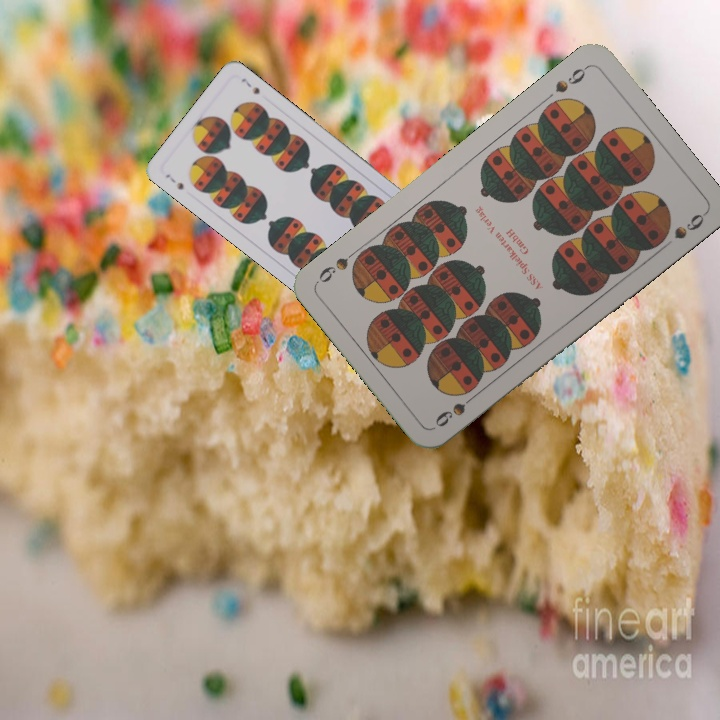S7: (161, 170, 186, 192)
S9: (430, 388, 481, 430), (551, 61, 591, 96)
